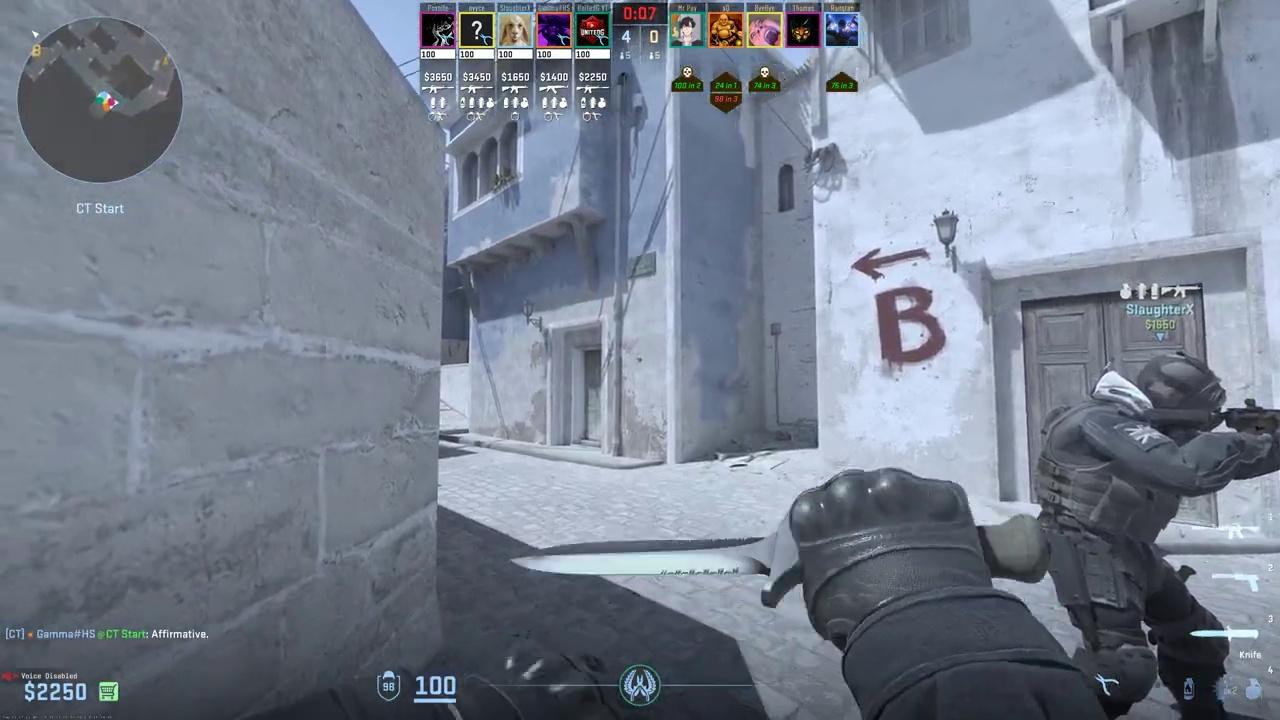CT: (1048, 358, 1274, 714)
